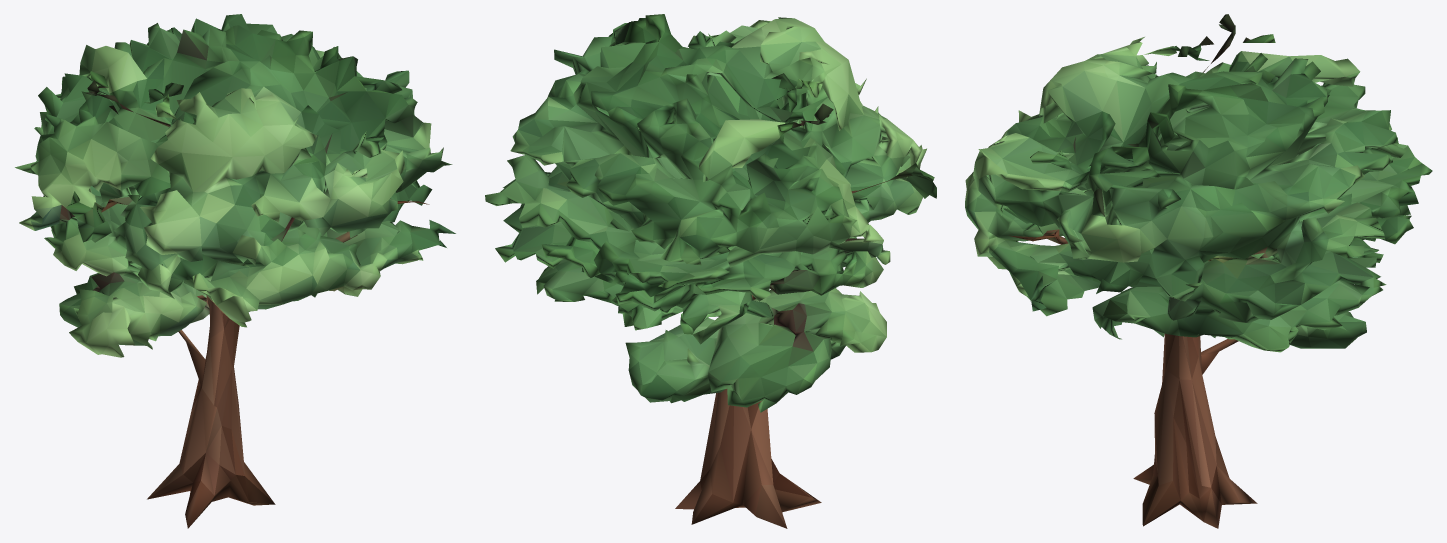
File: arbol_lod0.obj
3 renders of one model, left to right at view 1: azimuth 30°, elevation 25°; view 2: azimuth 150°, elevation 25°; view 3: azimuth 270°, elevation 25°, orthographic. The views are drawn at different scales.
Parts seen in each view (by area): view 1: arbol; view 2: arbol; view 3: arbol.
Part boxes in pixels (bbox=[...]): arbol: bbox=[15, 14, 455, 528]; arbol: bbox=[485, 14, 936, 528]; arbol: bbox=[965, 14, 1432, 528].
Bounding box in the file's own units: 2.17 × 2.49 × 2.28.
